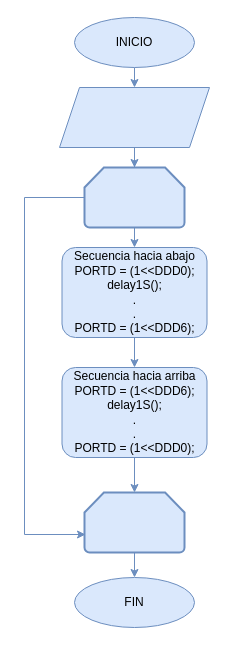
This 227x645 diagram has some shape labels left out. The shapes that lost their labels are listed below. From the top down, each one's box as (x1, y1, x2, y2) in pixels, then its label:
(58, 86, 210, 148): Inicializar Puertos DDRD = 0x7F PORTD = 0x00
(83, 166, 185, 228): LOOP
